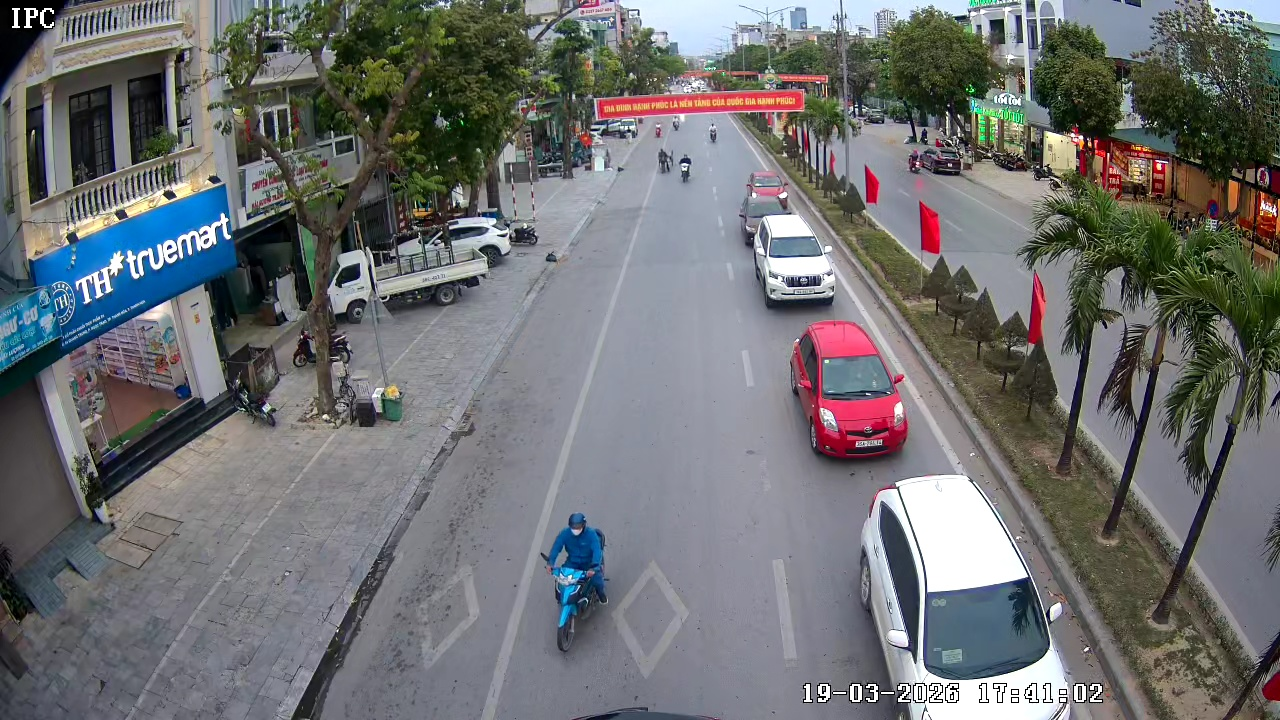car: (853, 473, 1083, 719), (789, 320, 908, 458), (750, 212, 837, 307), (738, 169, 791, 246)
motorbike: (539, 509, 612, 654), (656, 143, 673, 173), (678, 151, 694, 182), (706, 123, 719, 146)
